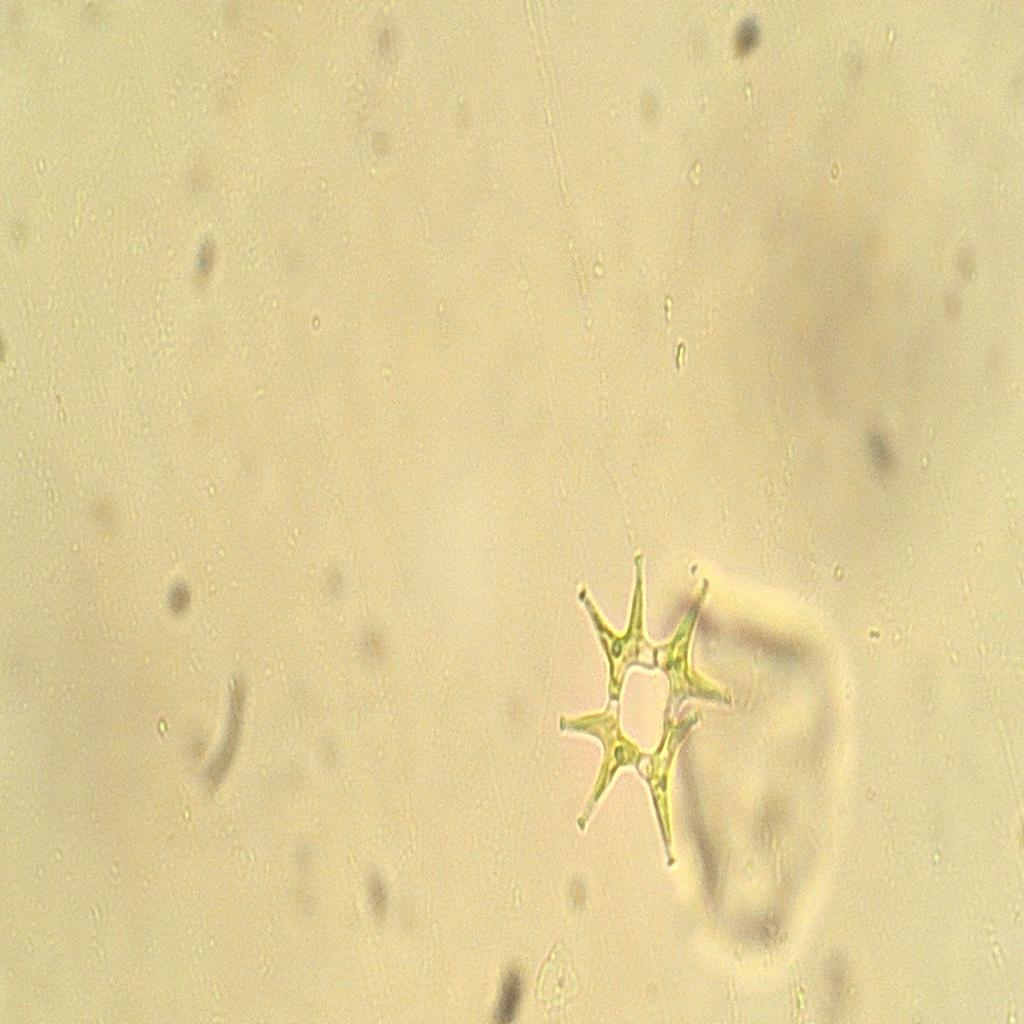Pediastrum_CO: (543, 534, 742, 876)
